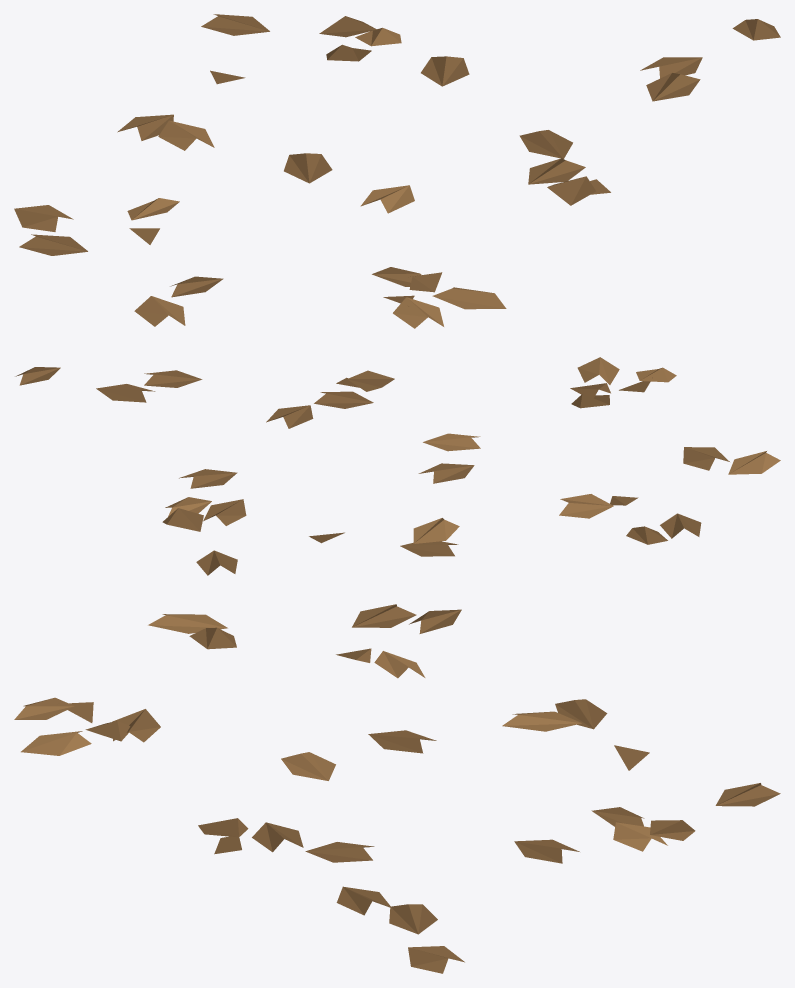
Rendered from Env_Leaves_03.glb.
3 renders of one model, top to bottom at view 1: azimuth 30°, elevation 25°; view 2: azimuth 150°, elevation 25°; view 3: azimuth 270°, elevation 25°, orthographic. The views are drawn at different scales.
Visible parts, largest first — view 1: SM_Gen_Env_Leaves_03; view 2: SM_Gen_Env_Leaves_03; view 3: SM_Gen_Env_Leaves_03.
Boxes of the visible parts, left/top/right/bottom form: SM_Gen_Env_Leaves_03: left=14, top=14, right=780, bottom=328; SM_Gen_Env_Leaves_03: left=15, top=357, right=780, bottom=575; SM_Gen_Env_Leaves_03: left=14, top=604, right=780, bottom=973.
Bounding box in the file's own units: 2.82 × 0.0916 × 2.38.
1 material, 1 textured.
